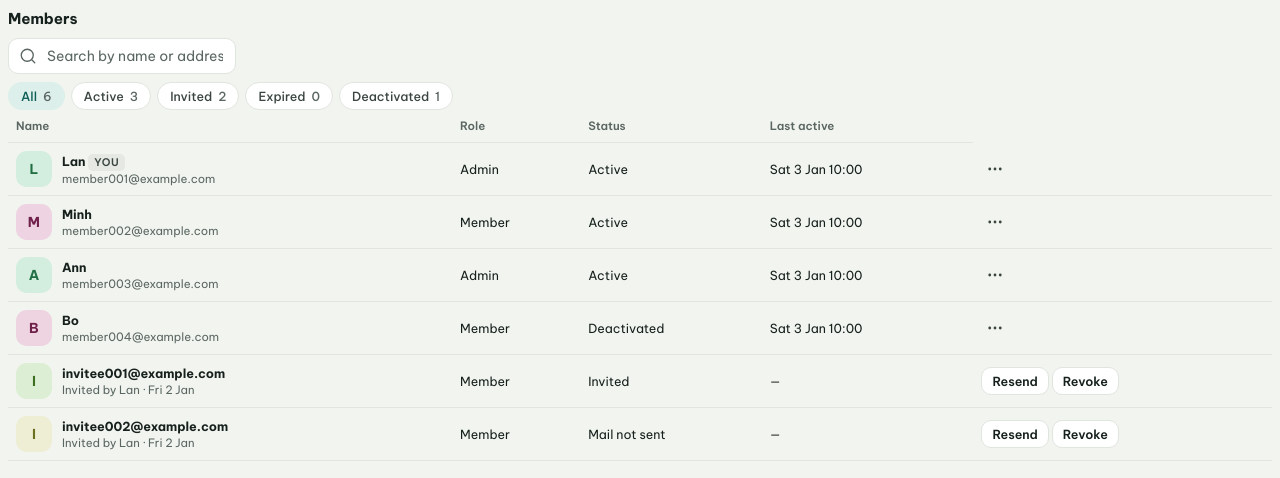
Test case: the menu of an account row (R15, R16, R17) › the actor's own row with two Admins: Deactivate is locked, Change role to Member is allowed
Click the button named "Actions for Lan". click: (995,169)
box: [981,155,1009,183]
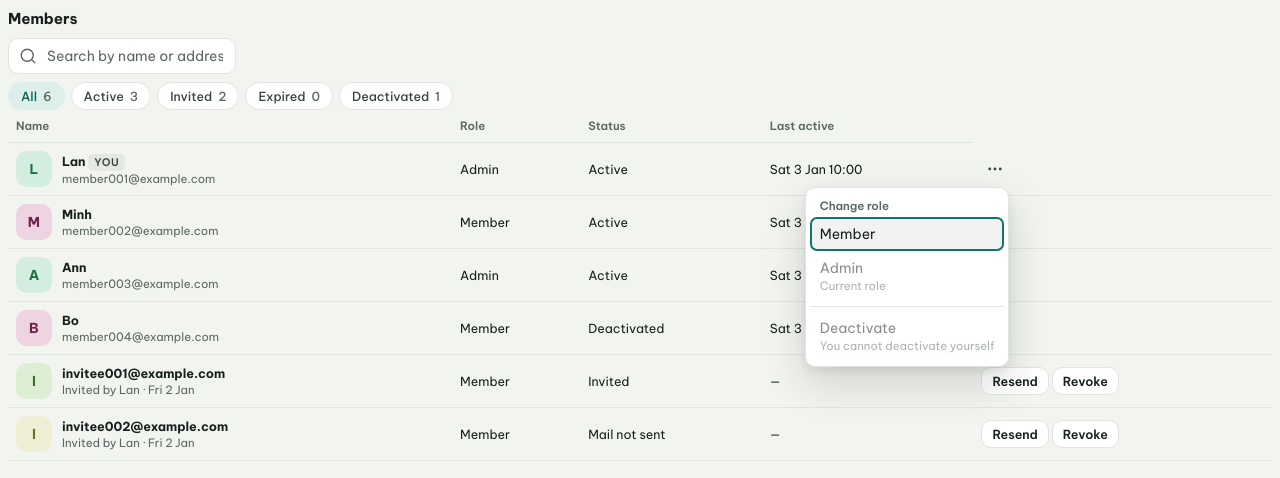
Now the menu item "Deactivate You cannot deactivate yourself" is shown, box [810,311,1004,362]
